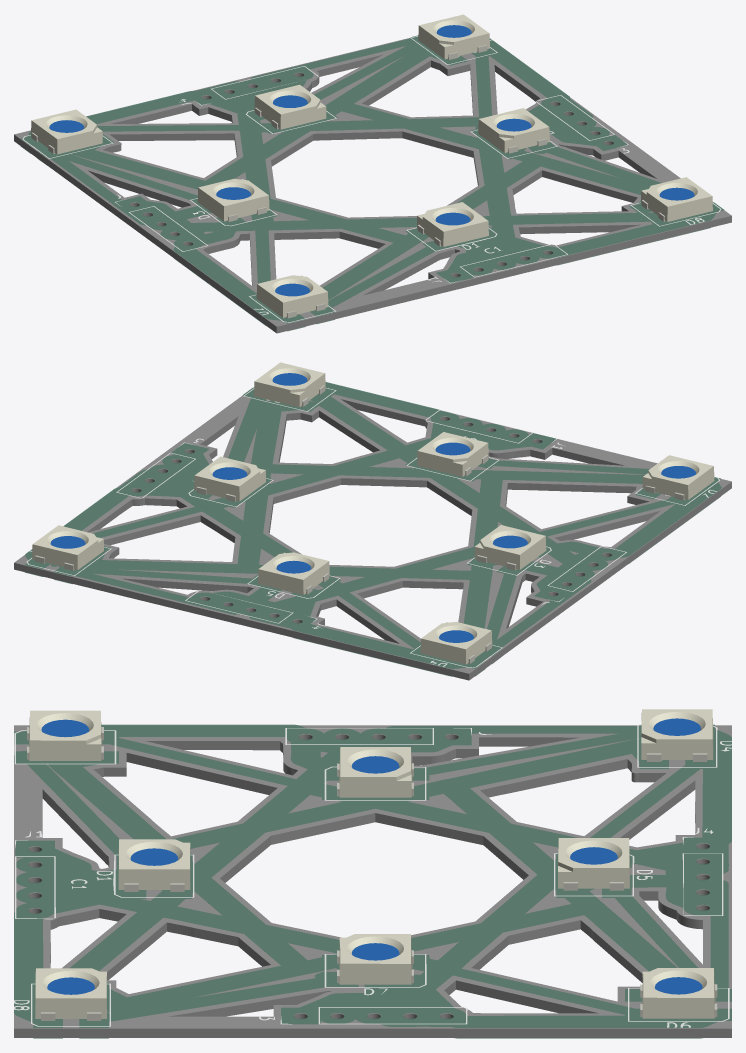
3 renders of one model, top to bottom at view 1: azimuth 30°, elevation 25°; view 2: azimuth 150°, elevation 25°; view 3: azimuth 270°, elevation 25°, orthographic. The views are drawn at different scales.
Visible parts, largest first — view 1: =>[0:1:1:5], =>[0:1:1:4], =>[0:1:1:3], D6, D7, D5, D4, D2, D8, D1, D3; view 2: =>[0:1:1:5], =>[0:1:1:4], =>[0:1:1:3], D8, D1, D2, D3, D6, D5, D7, D4; view 3: =>[0:1:1:5], =>[0:1:1:4], =>[0:1:1:3], D3, D6, D2, D7, D4, D1, D5, D8.
Part boxes in pixels (<box>): =>[0:1:1:5]: <box>14,37,731,333</box>; =>[0:1:1:4]: <box>20,35,724,331</box>; =>[0:1:1:3]: <box>22,36,721,322</box>; D6: <box>418,14,489,59</box>; D7: <box>478,108,549,153</box>; D5: <box>254,84,326,129</box>; D4: <box>31,109,102,154</box>; D2: <box>256,275,328,318</box>; D8: <box>641,177,712,221</box>; D1: <box>417,202,488,246</box>; D3: <box>197,178,269,221</box>; =>[0:1:1:5]: <box>14,383,731,680</box>; =>[0:1:1:4]: <box>25,382,721,676</box>; =>[0:1:1:3]: <box>26,388,719,667</box>; D8: <box>254,362,325,407</box>; D1: <box>417,432,488,476</box>; D2: <box>642,455,714,500</box>; D3: <box>474,525,546,570</box>; D6: <box>32,525,103,570</box>; D5: <box>258,552,329,594</box>; D7: <box>194,456,265,501</box>; D4: <box>420,622,492,664</box>; =>[0:1:1:5]: <box>14,725,731,1037</box>; =>[0:1:1:4]: <box>14,724,731,1038</box>; =>[0:1:1:3]: <box>14,724,731,1027</box>; D3: <box>337,747,413,797</box>; D6: <box>640,968,717,1018</box>; D2: <box>27,710,103,760</box>; D7: <box>337,934,413,984</box>; D4: <box>641,709,713,761</box>; D1: <box>118,839,190,891</box>; D5: <box>558,838,629,890</box>; D8: <box>35,968,106,1020</box>.
Bounding box in the file's own units: 0.05 × 0.00257 × 0.05.
